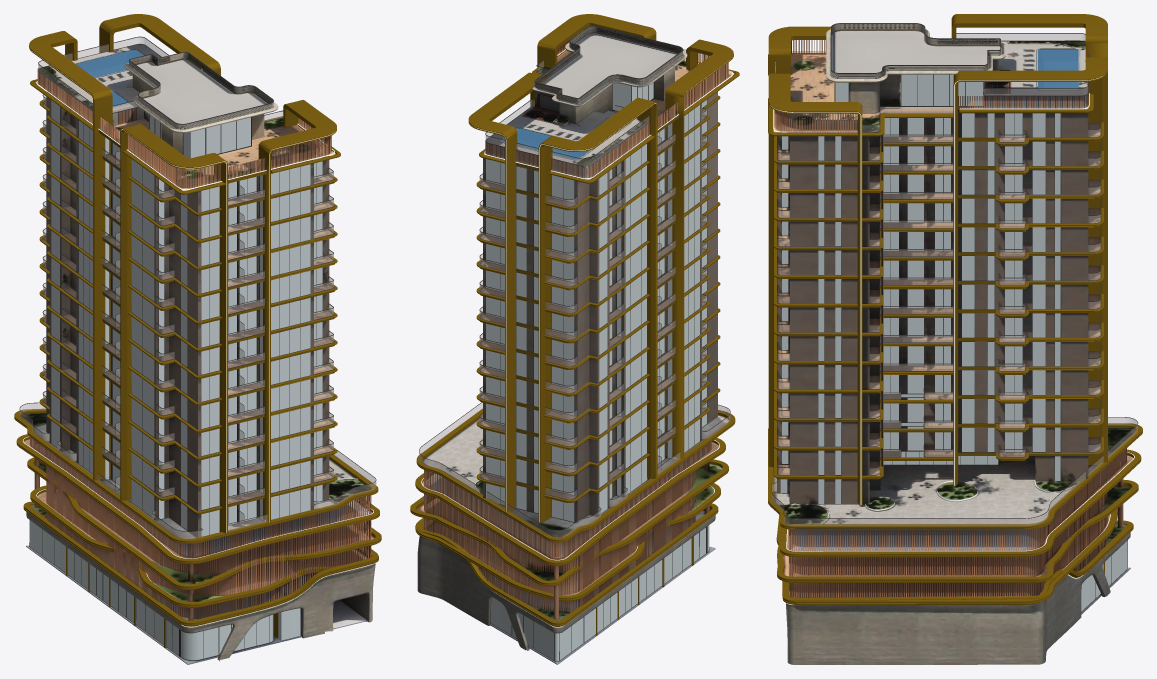
Rendered from Al_Jaddaf_build.glb.
The picture shows the model from 3 angles, left to right: view 1: azimuth 30°, elevation 25°; view 2: azimuth 150°, elevation 25°; view 3: azimuth 270°, elevation 25°; orthographic projection. The views are drawn at different scales.
Parts seen in each view (by area): view 1: Al_Jaddaf_build; view 2: Al_Jaddaf_build; view 3: Al_Jaddaf_build.
Part boxes in pixels (box(x1,y1,x2,y2)): Al_Jaddaf_build: box(14, 14, 381, 664); Al_Jaddaf_build: box(410, 14, 739, 664); Al_Jaddaf_build: box(768, 14, 1142, 664).
Bounding box in the file's own units: 36.54 × 87.1 × 53.45.
9 materials, 3 textured.
